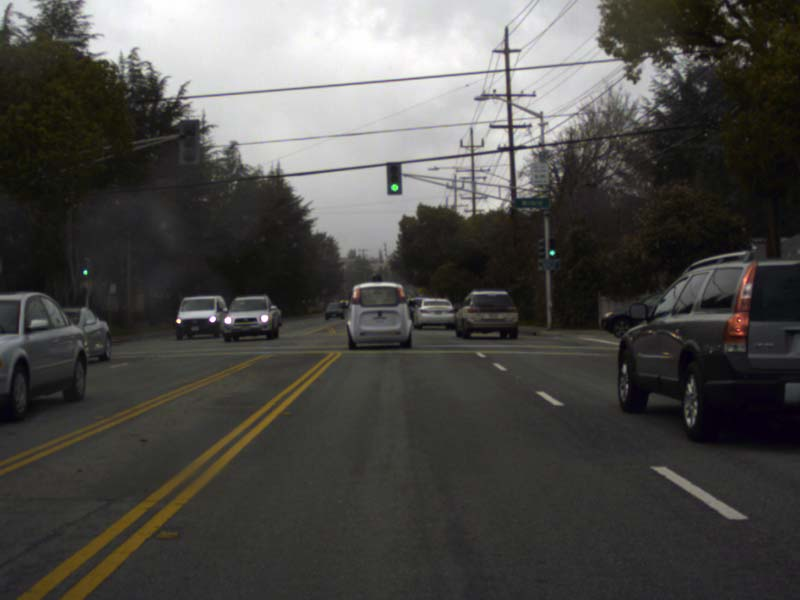Green: (387, 162, 400, 194), (549, 237, 554, 257), (82, 259, 87, 275)
